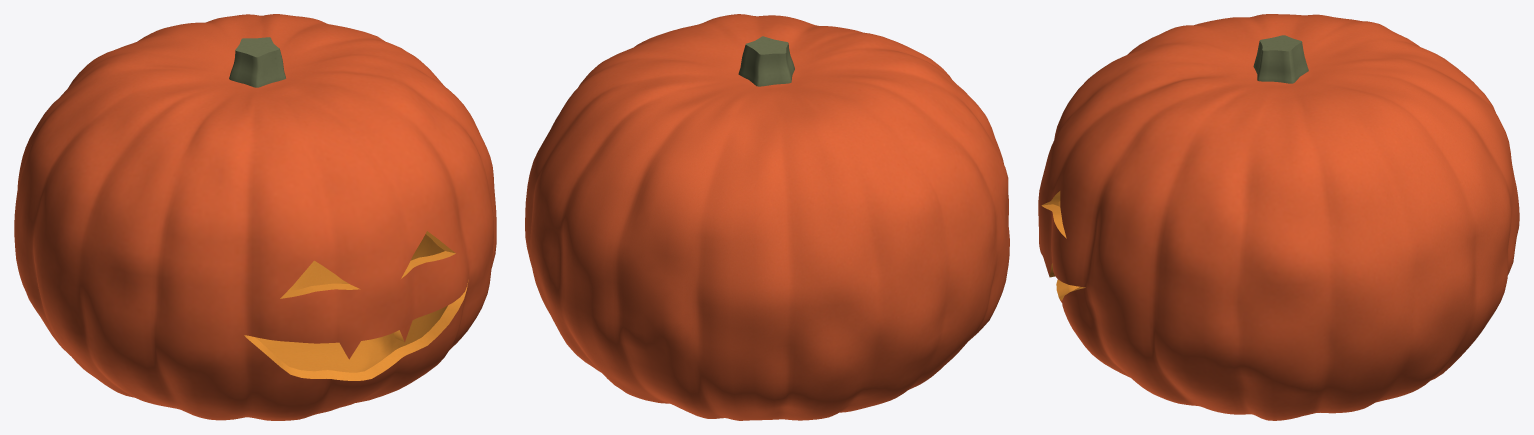
File: pumpkin.glb
The picture shows the model from 3 angles, left to right: view 1: azimuth 30°, elevation 25°; view 2: azimuth 150°, elevation 25°; view 3: azimuth 270°, elevation 25°; orthographic projection.
Parts seen in each view (by area): view 1: Pumpkin; view 2: Pumpkin; view 3: Pumpkin.
Boxes of the visible parts, box(x1,y1,x2,y2) form: Pumpkin: box(14, 14, 496, 420); Pumpkin: box(525, 14, 1009, 420); Pumpkin: box(1038, 14, 1519, 420).
Bounding box in the file's own units: 1.98 × 1.46 × 1.97.
Materials: 1 (1 with a texture image).
